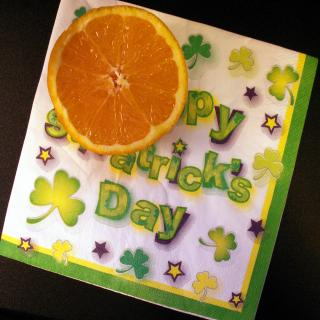Orange: (47, 5, 188, 155)
